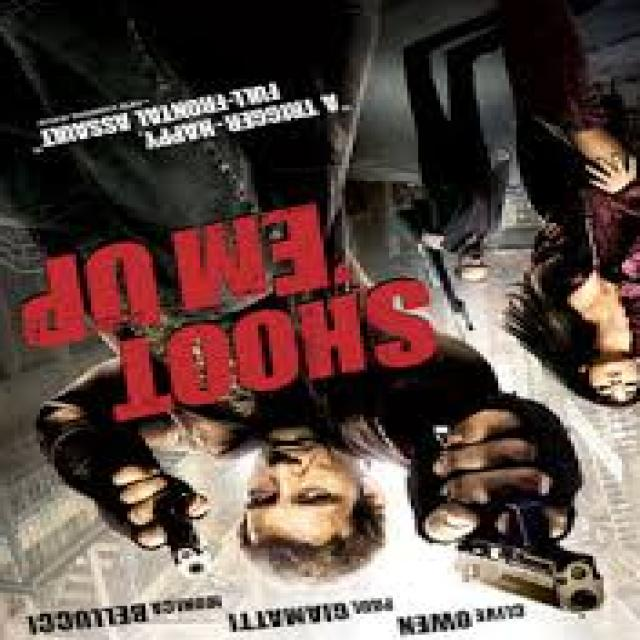gun: (359, 402, 629, 630), (69, 439, 255, 592), (373, 202, 503, 351)
